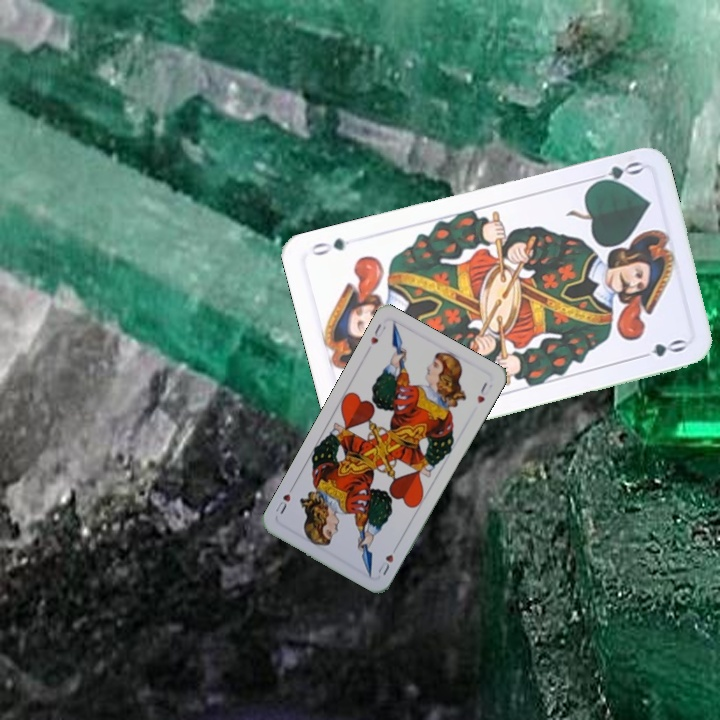GO: (586, 157, 645, 189)
HU: (373, 541, 401, 578), (366, 320, 388, 348)
